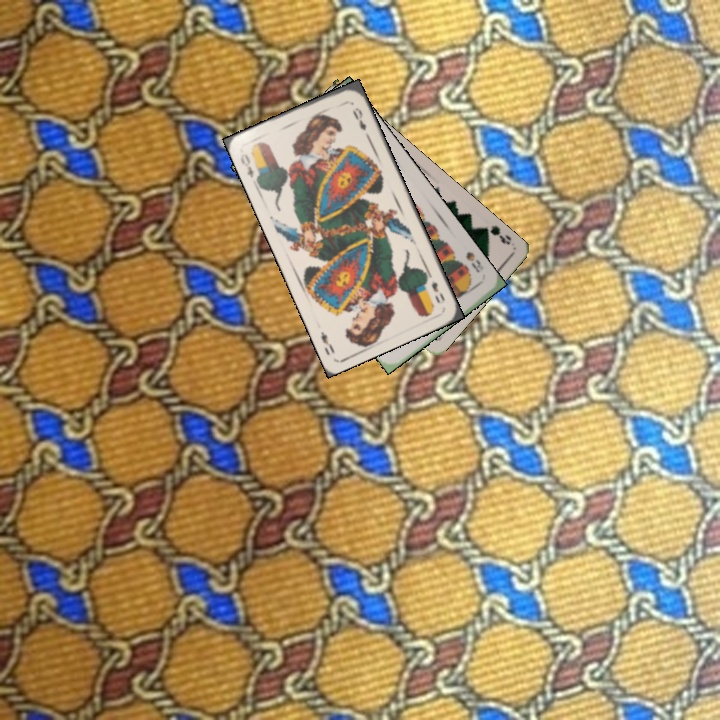EO: (422, 270, 447, 306), (236, 149, 256, 180)
G9: (477, 221, 514, 247)
S8: (461, 247, 486, 275)
